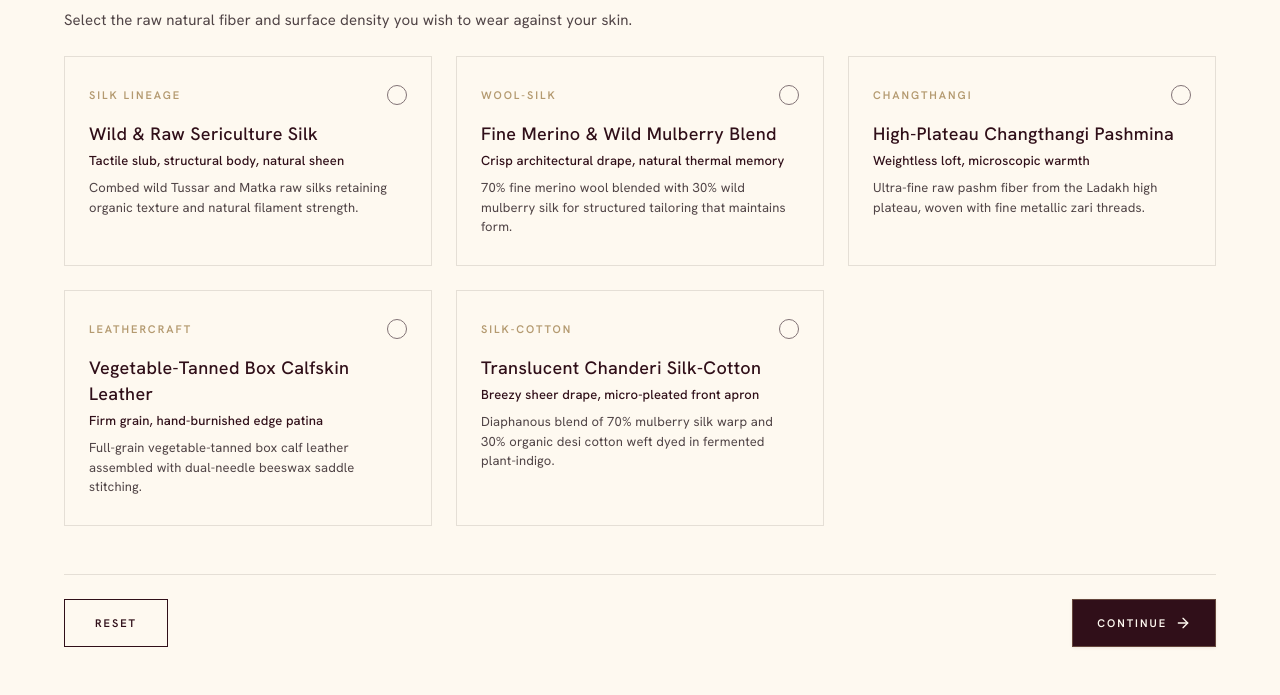
Stage 3.4 Thread Compass Implementation Tests › 2. Guided Consultation Stepper & State Navigation › preserves previous selections when navigating backward and forward
(page scrolled)
# Select Fabric on Step 1
Click the radio button with test id "option-fabric-box-calf": (248, 408) [64, 290, 432, 526]
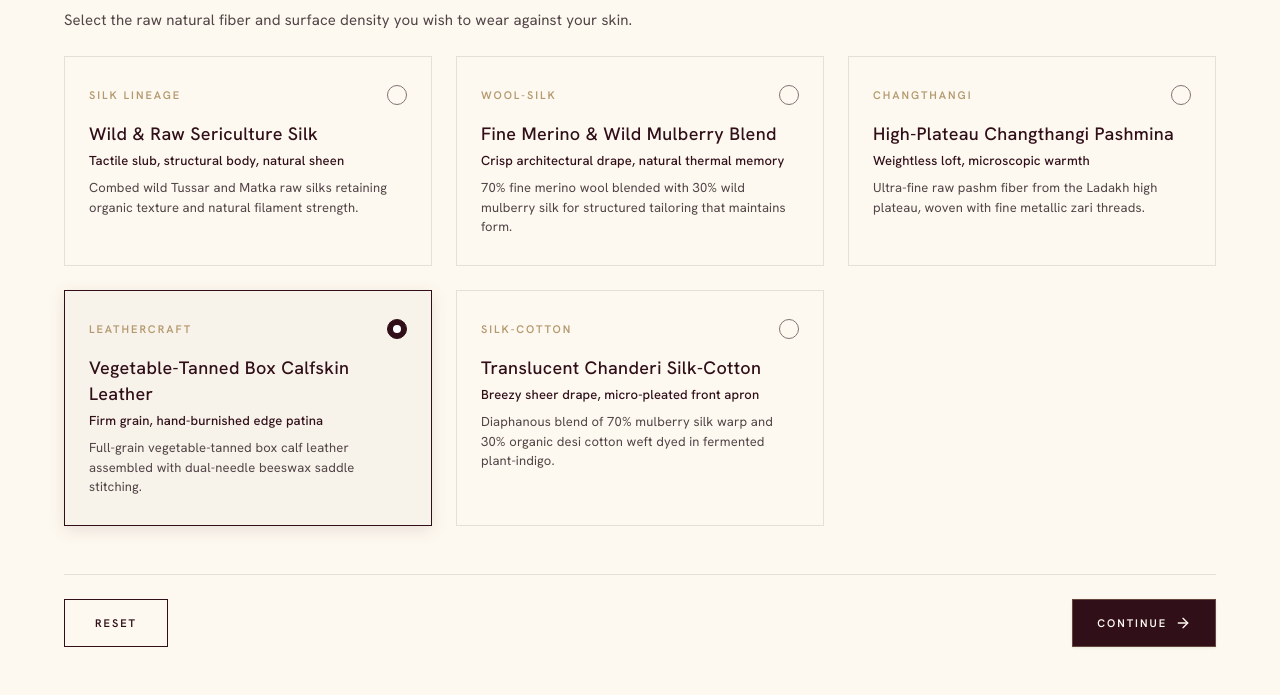
Click the button with test id "step-continue-btn": (1144, 623) [1072, 599, 1216, 647]
(page scrolled)
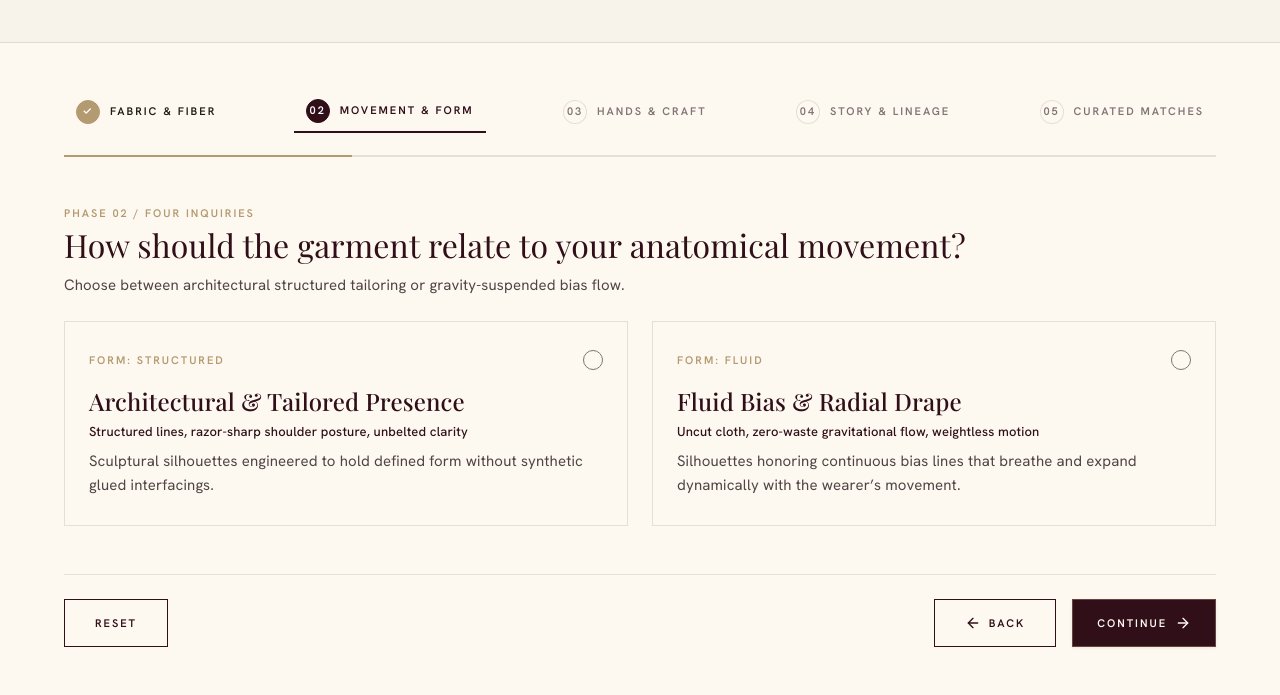
Now the element with test id "compass-step-2" is shown, box [64, 205, 1216, 526]
Click the radio button with test id "option-movement-architectural": (346, 423) [64, 321, 628, 526]
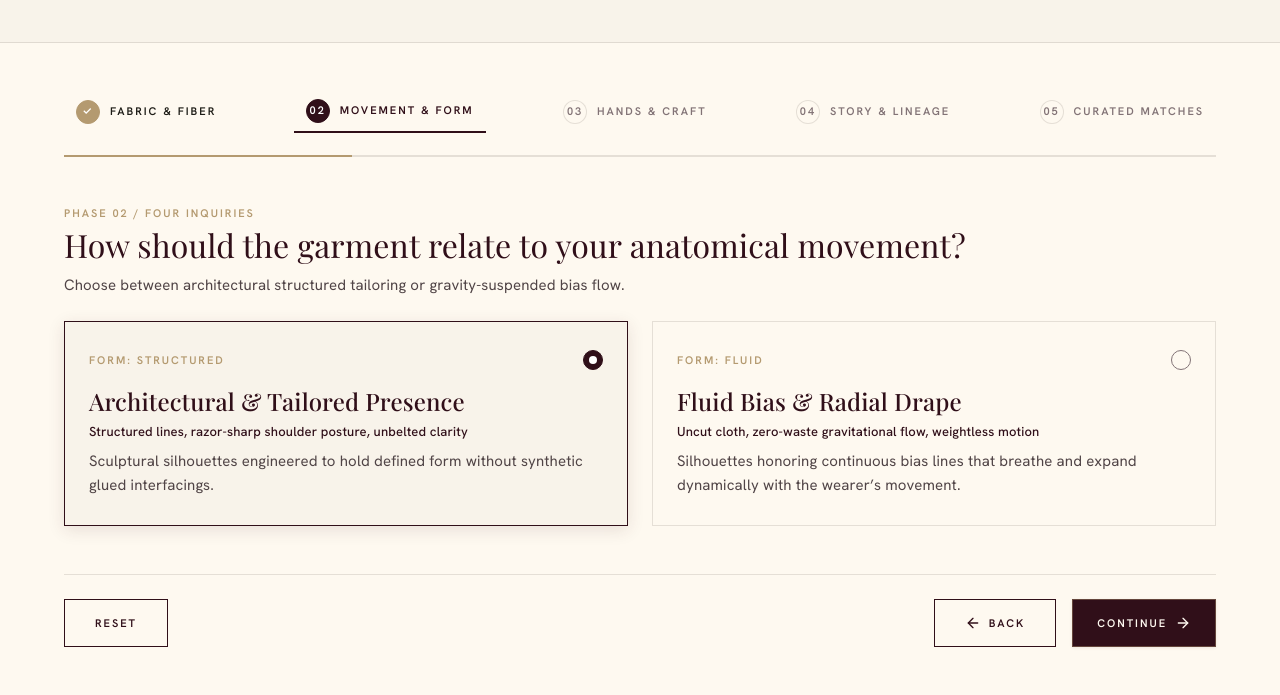
# Click Back to Step 1
Click the button with test id "step-back-btn": (995, 623) [934, 599, 1056, 647]
(page scrolled)
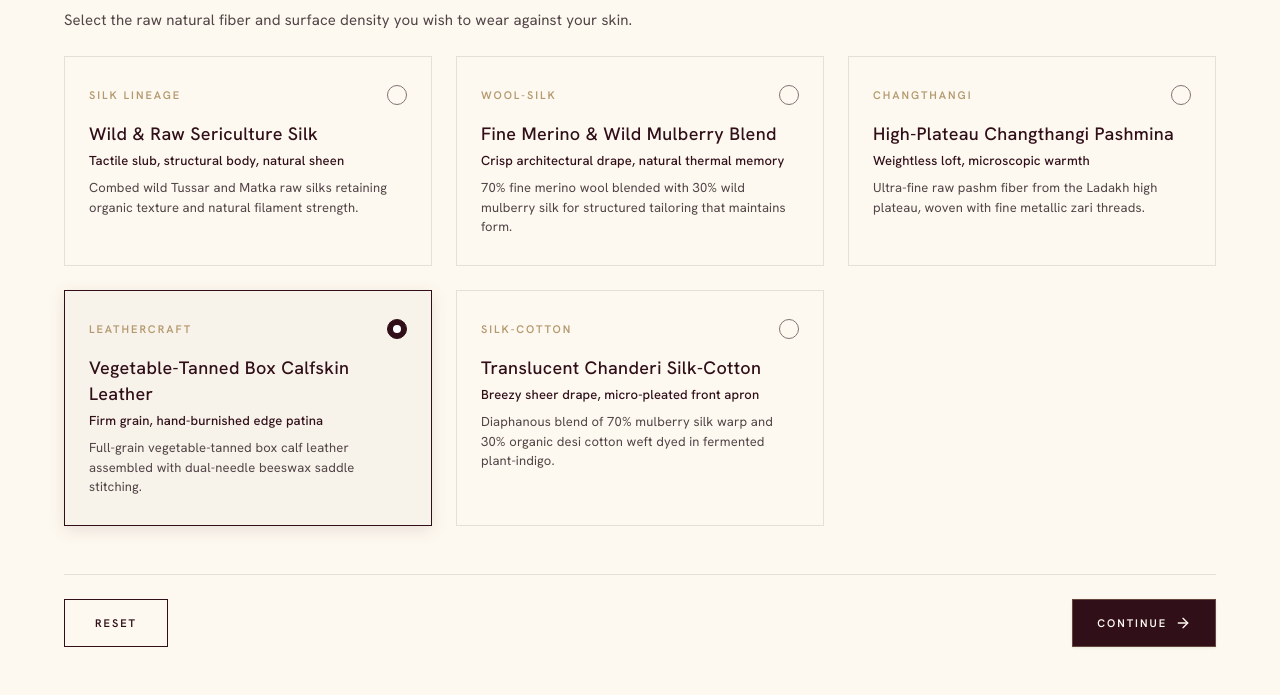
Now the radio button with test id "option-fabric-box-calf" has class "active", box [64, 290, 432, 526]
# Click Continue to Step 2
Click the button with test id "step-continue-btn": (1144, 623) [1072, 599, 1216, 647]
(page scrolled)
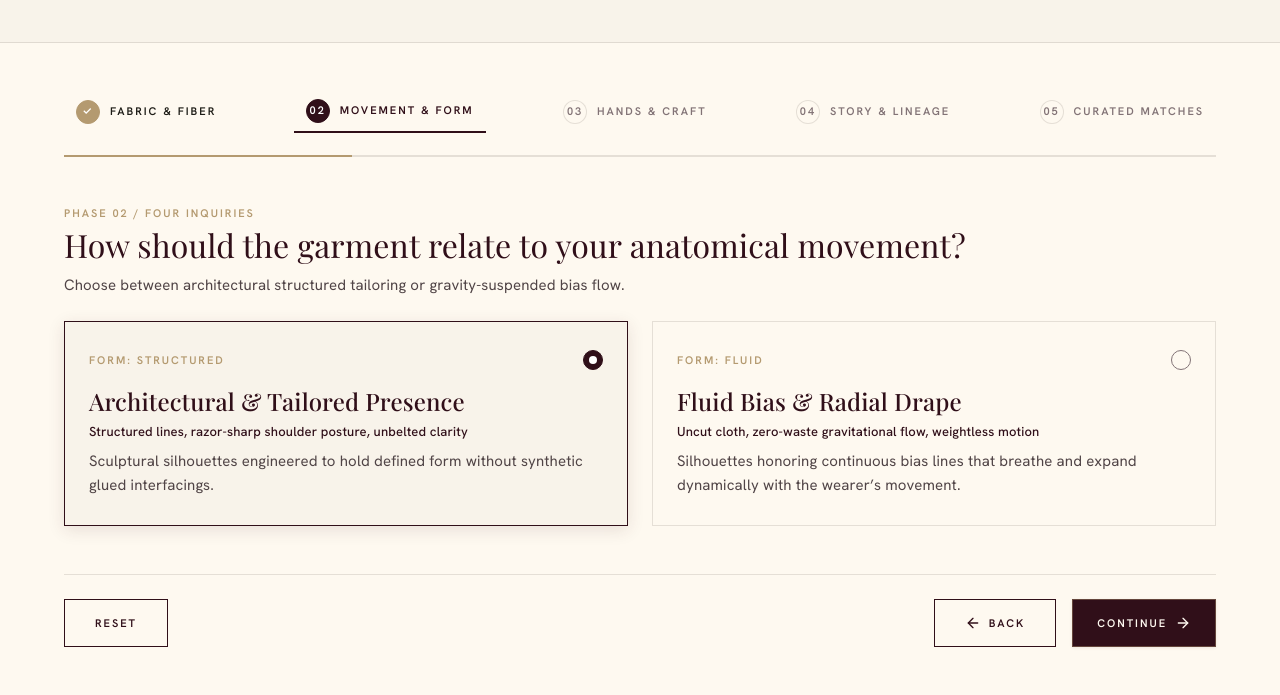
Now the element with test id "compass-step-2" is shown, box [64, 205, 1216, 526]
